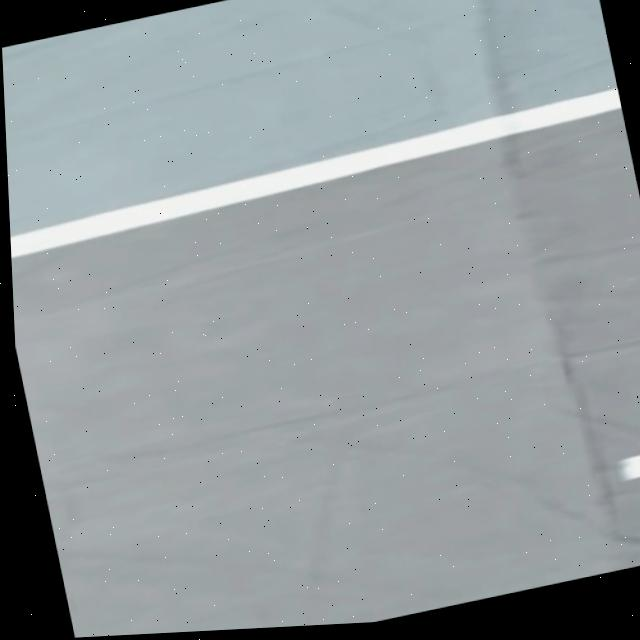center: (619, 453, 640, 478)
left: (10, 87, 621, 256)
